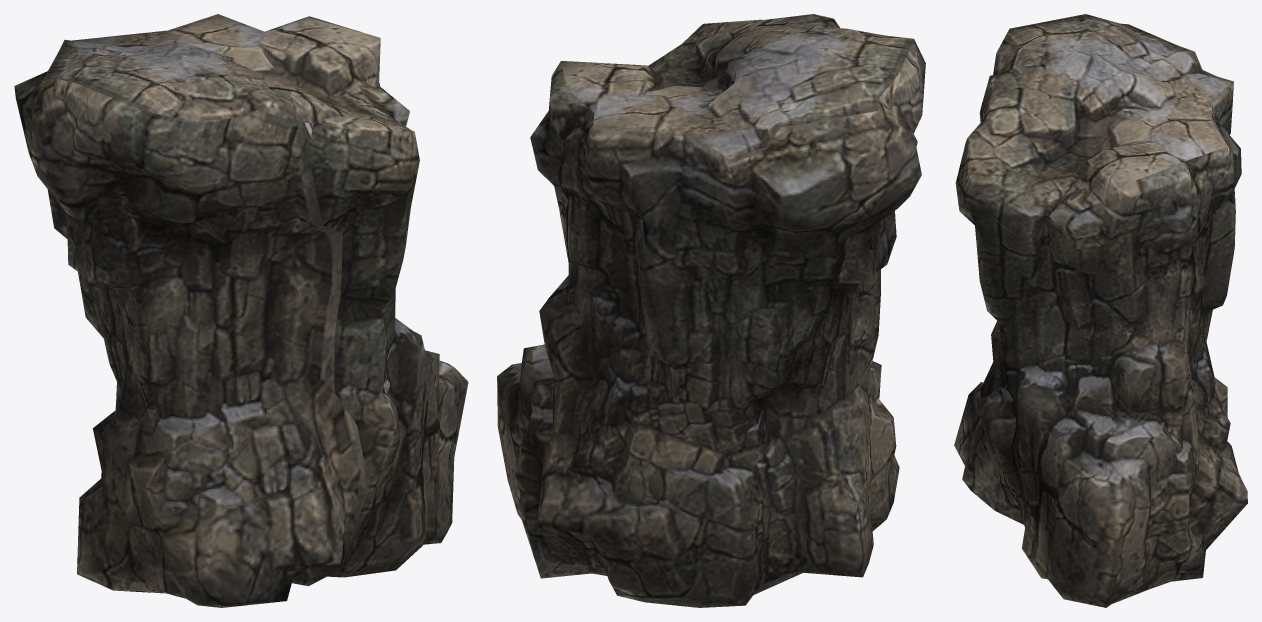
File: Rock5A.FBX
3 views of the same model, side by side, from view 1: azimuth 30°, elevation 25°; view 2: azimuth 150°, elevation 25°; view 3: azimuth 270°, elevation 25° (orthographic). The views are drawn at different scales.
Parts seen in each view (by area): view 1: Rock5A; view 2: Rock5A; view 3: Rock5A.
Part boxes in pixels (box(x1,y1,x2,y2)): Rock5A: box(14, 14, 468, 607); Rock5A: box(497, 14, 925, 607); Rock5A: box(954, 14, 1247, 607).
Bounding box in the file's own units: 3.79 × 4.67 × 2.76.
